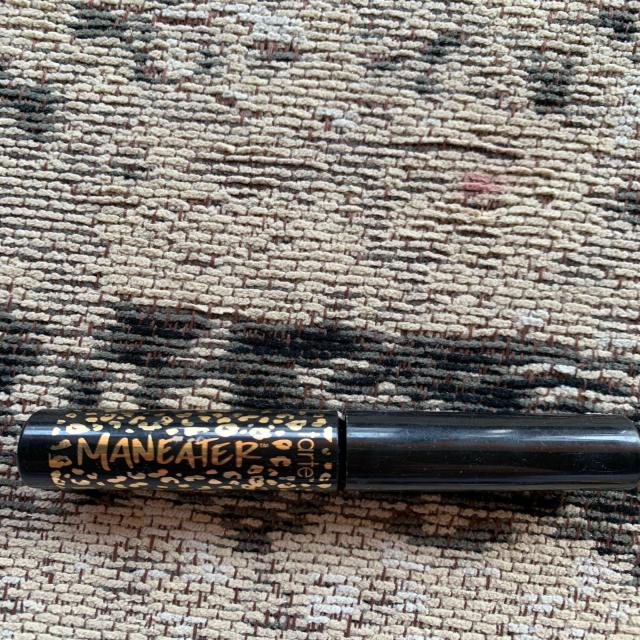mascara: (18, 403, 640, 507)
